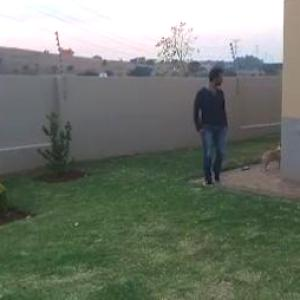follow: (191, 64, 233, 190)
